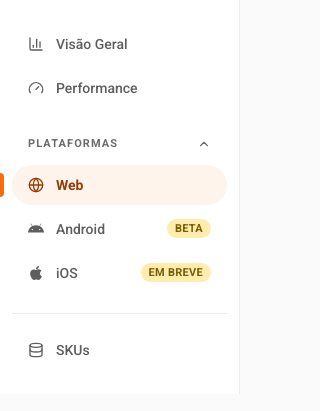
Sidebar › recolhe e expande a seção de plataformas
This screenshot has width=320, height=411.
What coordinates should you click on to do the following:
click the button "Plataformas"
I would click on:
 (120, 144)
Its box is [12,128,227,160].
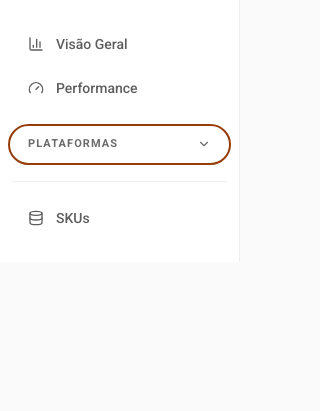
Expected: the button "Plataformas" is collapsed, [12,128,227,160]
